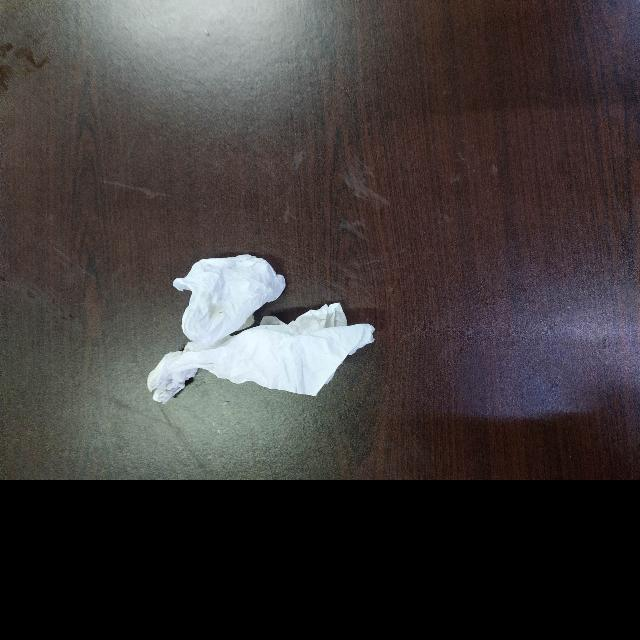kitchen paper: (142, 298, 378, 408), (170, 250, 286, 346)
